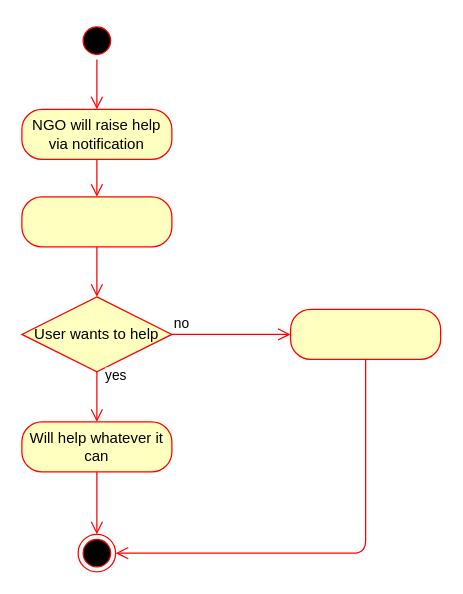
The diagram is 463 pixels wide and 594 high, and some of its shapes have lost their labels. Each missing label, with the centre of its shape:
"End-User can see the help" belongs at point (96, 221).
"Ignore the notification" belongs at point (365, 333).
